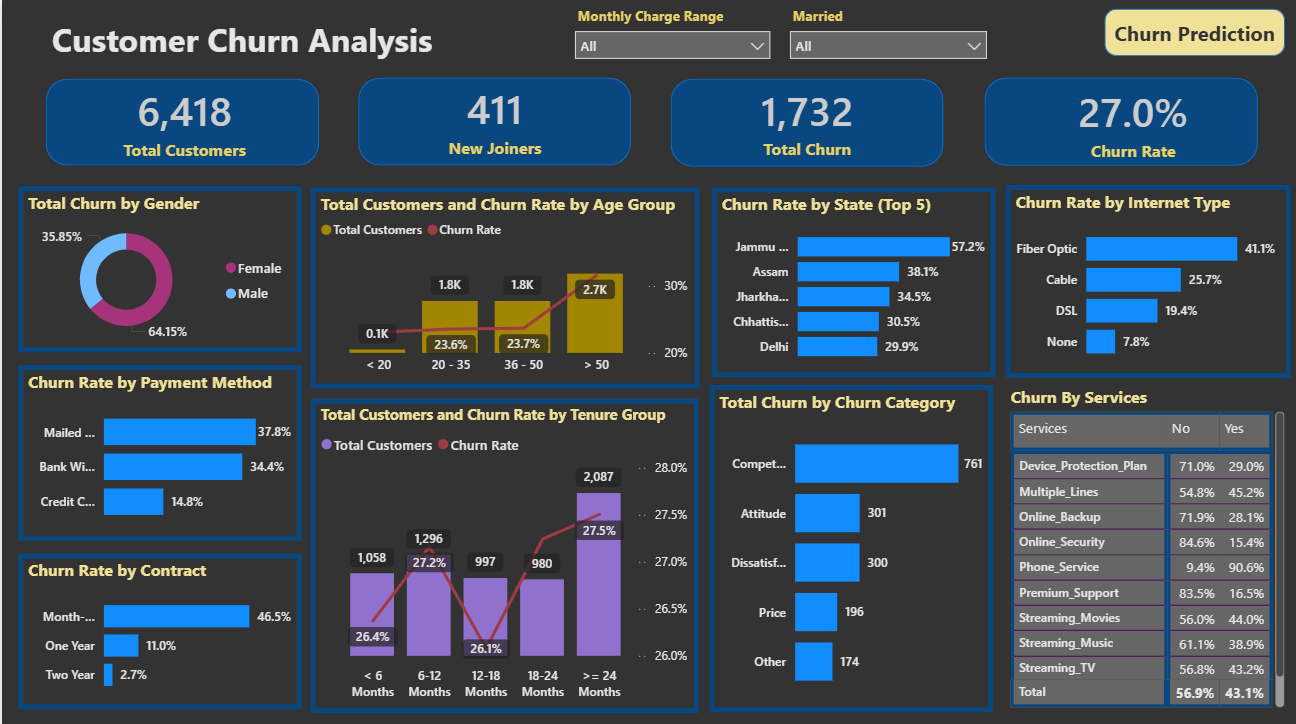

What the dashboard file says about the page in this screenshot:
{"tool":"powerbi","page":{"name":"Summary ","canvas":[1280,720],"ordinal":0},"visuals":[{"type":"donutChart","fields":{"Category":["prod_Churn.Gender"],"Y":["prod_Churn.Total Churn"]},"box":[16.2,183.8,280,163.8],"z":0},{"type":"barChart","fields":{"Category":["prod_Churn.Payment_Method"],"Y":["prod_Churn.Churn Rate"]},"box":[16.2,360,280,173.8],"z":1000},{"type":"barChart","fields":{"Y":["prod_Churn.Churn Rate"],"Category":["prod_Churn.Contract"]},"box":[16.2,547.5,280,153.8],"z":2000},{"type":"lineStackedColumnComboChart","fields":{"Y":["prod_Churn.Total Customers"],"Y2":["prod_Churn.Churn Rate"],"Category":["Mapping_AgeGroup.Age Group"]},"box":[305,185,383.8,198.8],"z":3000},{"type":"lineStackedColumnComboChart","fields":{"Y":["prod_Churn.Total Customers"],"Y2":["prod_Churn.Churn Rate"],"Category":["Mapping_TenureGroup.Tenure Group"]},"box":[305,393.3,383.3,310],"z":4000},{"type":"barChart","fields":{"Y":["prod_Churn.Churn Rate"],"Category":["prod_Churn.State"]},"box":[701.2,185,280,187.5],"z":5000},{"type":"barChart","fields":{"Category":["prod_Churn.Churn_Category"],"Y":["prod_Churn.Total Churn"]},"box":[698.3,380,280,323.3],"z":6000},{"type":"barChart","fields":{"Category":["prod_Churn.Internet_Type"],"Y":["prod_Churn.Churn Rate"]},"box":[991.7,183.3,281.7,190],"z":7000},{"type":"pivotTable","title":"Churn By Services ","fields":{"Columns":["prod_services.Status"],"Rows":["prod_services.Services"],"Values":["Sum(prod_services.Churn Status)"]},"box":[991.7,380,280,323.3],"z":8000},{"type":"slicer","fields":{"Values":["prod_services.Monthly Charge Range"]},"box":[555,1.7,213.3,66.7],"z":9000},{"type":"shape","box":[43.3,78.3,270,85.7],"z":9000,"group":"g1"},{"type":"slicer","fields":{"Values":["prod_services.Married"]},"box":[768.3,1.7,215,68.3],"z":10000},{"type":"group","id":"g1","title":"Group 1","box":[43.3,78.3,270,86.7],"z":11000},{"type":"group","id":"g2","title":"Group 2","box":[352.2,76.7,270,88.3],"z":12000},{"type":"card","fields":{"Values":["prod_Churn.Total Customers"]},"box":[96.4,79.1,168.6,81.4],"z":12000,"group":"g1"},{"type":"shape","box":[352.2,76.7,269.3,86.9],"z":13000,"group":"g2"},{"type":"group","id":"g3","title":"Group 3","box":[661.1,78.3,270,88.3],"z":13000},{"type":"card","fields":{"Values":["prod_Churn.New Joiners"]},"box":[397.3,76.7,179,82.4],"z":14000,"group":"g2"},{"type":"group","id":"g4","title":"Group 3","box":[970,76.7,270,88.3],"z":14000},{"type":"textbox","box":[96.7,11.7,390,55],"z":15000},{"type":"shape","box":[970,76.7,270,87.1],"z":15000,"group":"g4"},{"type":"shape","box":[661.1,78.3,269.3,86.9],"z":15000,"group":"g3"},{"type":"shape","title":"Summary","box":[1088.3,8.3,178.3,46.7],"z":16000},{"type":"card","fields":{"Values":["prod_Churn.Churn Rate"]},"box":[1036.6,77.8,161.1,84.8],"z":16000,"group":"g4"},{"type":"card","fields":{"Values":["prod_Churn.Total Churn"]},"box":[706.2,78.3,179,82.4],"z":16000,"group":"g3"}]}

Visuals, with their boxes in screenshot pixels (x1, y1, x2, y2), scaled from the page's 1280x720 canvas onto the 1296x724 screenshot:
donutChart - prod_Churn.Gender x prod_Churn.Total Churn: (x1=16, y1=185, x2=300, y2=350)
barChart - prod_Churn.Payment_Method x prod_Churn.Churn Rate: (x1=16, y1=362, x2=300, y2=537)
barChart - prod_Churn.Churn Rate x prod_Churn.Contract: (x1=16, y1=551, x2=300, y2=705)
lineStackedColumnComboChart - prod_Churn.Total Customers x prod_Churn.Churn Rate: (x1=309, y1=186, x2=697, y2=386)
lineStackedColumnComboChart - prod_Churn.Total Customers x prod_Churn.Churn Rate: (x1=309, y1=395, x2=697, y2=707)
barChart - prod_Churn.Churn Rate x prod_Churn.State: (x1=710, y1=186, x2=993, y2=375)
barChart - prod_Churn.Churn_Category x prod_Churn.Total Churn: (x1=707, y1=382, x2=991, y2=707)
barChart - prod_Churn.Internet_Type x prod_Churn.Churn Rate: (x1=1004, y1=184, x2=1289, y2=375)
"Churn By Services " pivotTable: (x1=1004, y1=382, x2=1288, y2=707)
slicer - prod_services.Monthly Charge Range: (x1=562, y1=2, x2=778, y2=69)
shape: (x1=44, y1=79, x2=317, y2=165)
slicer - prod_services.Married: (x1=778, y1=2, x2=996, y2=70)
"Group 1" group: (x1=44, y1=79, x2=317, y2=166)
"Group 2" group: (x1=357, y1=77, x2=630, y2=166)
card - prod_Churn.Total Customers: (x1=98, y1=80, x2=268, y2=161)
shape: (x1=357, y1=77, x2=629, y2=165)
"Group 3" group: (x1=669, y1=79, x2=943, y2=168)
card - prod_Churn.New Joiners: (x1=402, y1=77, x2=584, y2=160)
"Group 3" group: (x1=982, y1=77, x2=1256, y2=166)
textbox: (x1=98, y1=12, x2=493, y2=67)
shape: (x1=982, y1=77, x2=1256, y2=165)
shape: (x1=669, y1=79, x2=942, y2=166)
"Summary" shape: (x1=1102, y1=8, x2=1282, y2=55)
card - prod_Churn.Churn Rate: (x1=1050, y1=78, x2=1213, y2=164)
card - prod_Churn.Total Churn: (x1=715, y1=79, x2=896, y2=162)
